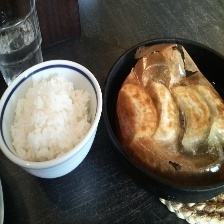rice: (7, 72, 97, 164)
